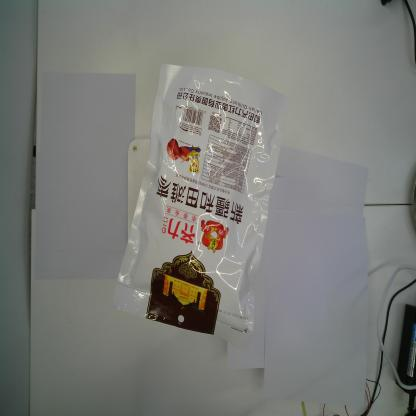Dried Food: (112, 63, 290, 354)
